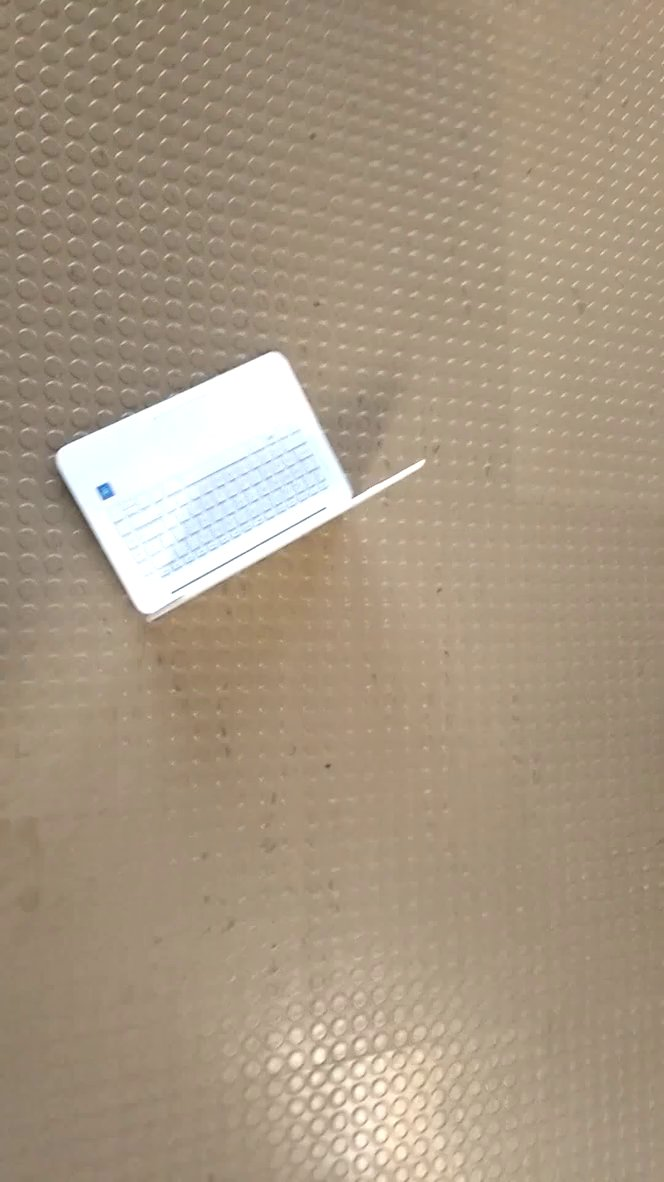laptop: (48, 341, 431, 631)
